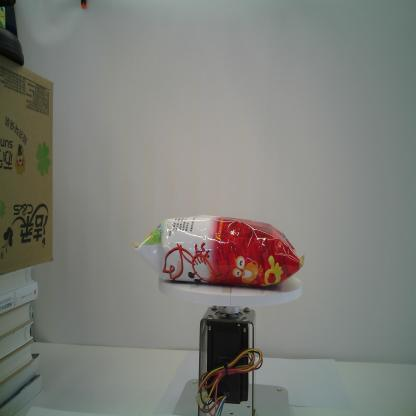Puffed Food: (131, 213, 305, 288)
